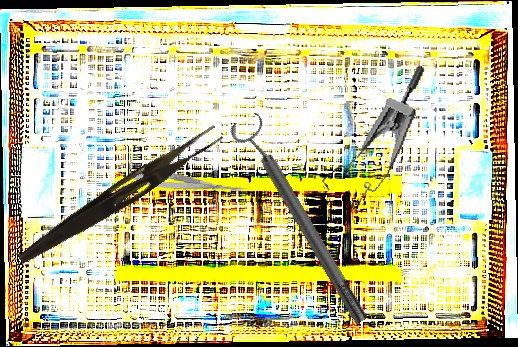Dressing Forceps: (15, 117, 224, 275)
Fixation Ring: (226, 109, 378, 332)
Micro Scissor: (128, 167, 249, 198)
Speculum: (317, 50, 427, 220)
